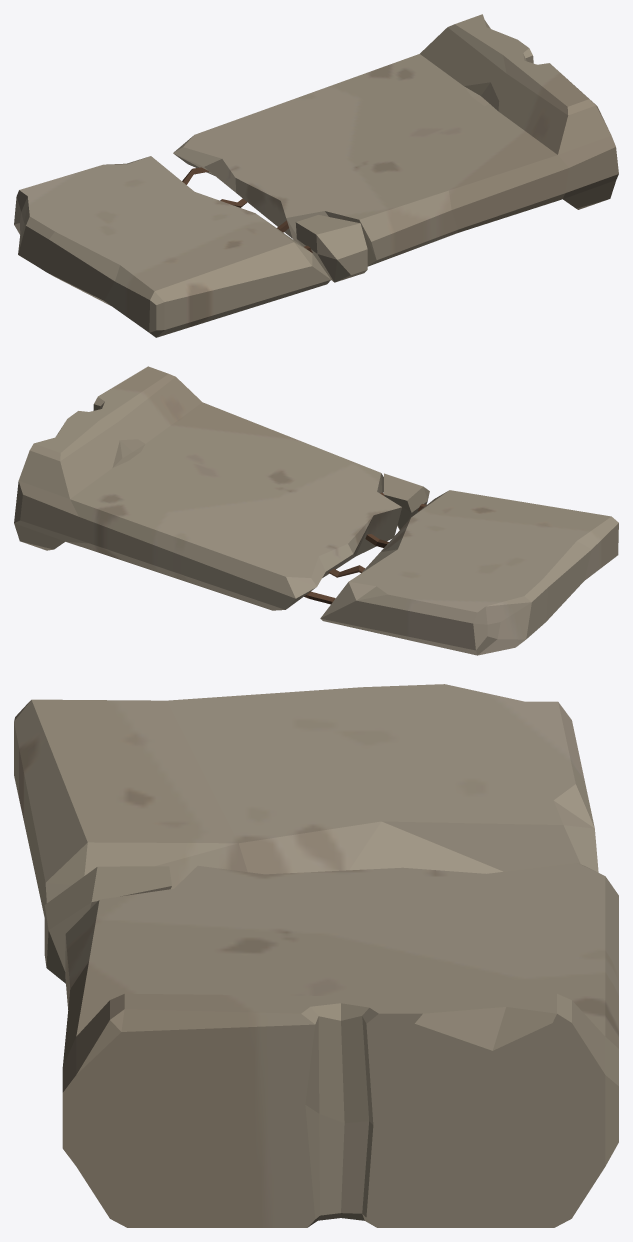
Rendered from SM_Prop_Barrier_Tall_06.glb.
3 renders of one model, top to bottom at view 1: azimuth 30°, elevation 25°; view 2: azimuth 150°, elevation 25°; view 3: azimuth 270°, elevation 25°, orthographic. The views are drawn at different scales.
Parts seen in each view (by area): view 1: SM_Prop_Barrier_Tall_06; view 2: SM_Prop_Barrier_Tall_06; view 3: SM_Prop_Barrier_Tall_06.
Boxes of the visible parts, x1,y1,x2,y2 form: SM_Prop_Barrier_Tall_06: (14, 14, 618, 337); SM_Prop_Barrier_Tall_06: (14, 366, 618, 655); SM_Prop_Barrier_Tall_06: (14, 684, 618, 1227).
Size of the model in its own units: 3.43 by 0.7173 by 1.87.
1 material, 1 textured.
